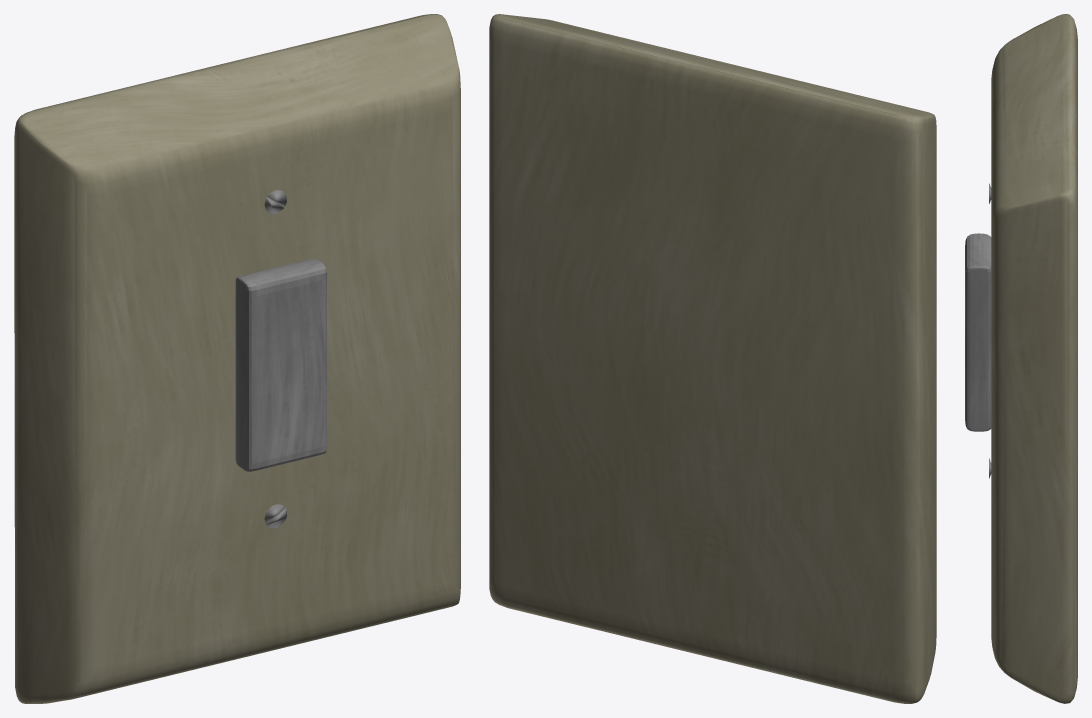
Rendered from LightSwitch.fbx.
The picture shows the model from 3 angles, left to right: view 1: azimuth 30°, elevation 25°; view 2: azimuth 150°, elevation 25°; view 3: azimuth 270°, elevation 25°; orthographic projection. The views are drawn at different scales.
Visible parts, largest first — view 1: LightSwitch; view 2: LightSwitch; view 3: LightSwitch.
Part boxes in pixels (<box>): LightSwitch: <box>14,14,460,703</box>; LightSwitch: <box>489,14,936,703</box>; LightSwitch: <box>965,14,1077,703</box>.
Size of the model in its own units: 9.62 by 12.61 by 2.51.
Materials: 1 (1 with a texture image).
